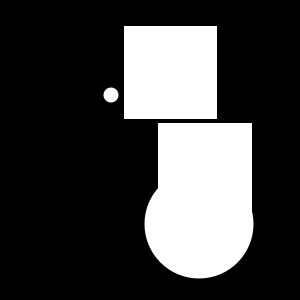circle: (158, 123, 252, 217), (124, 26, 217, 119)
rectangle: (144, 170, 254, 278), (103, 87, 118, 102)
